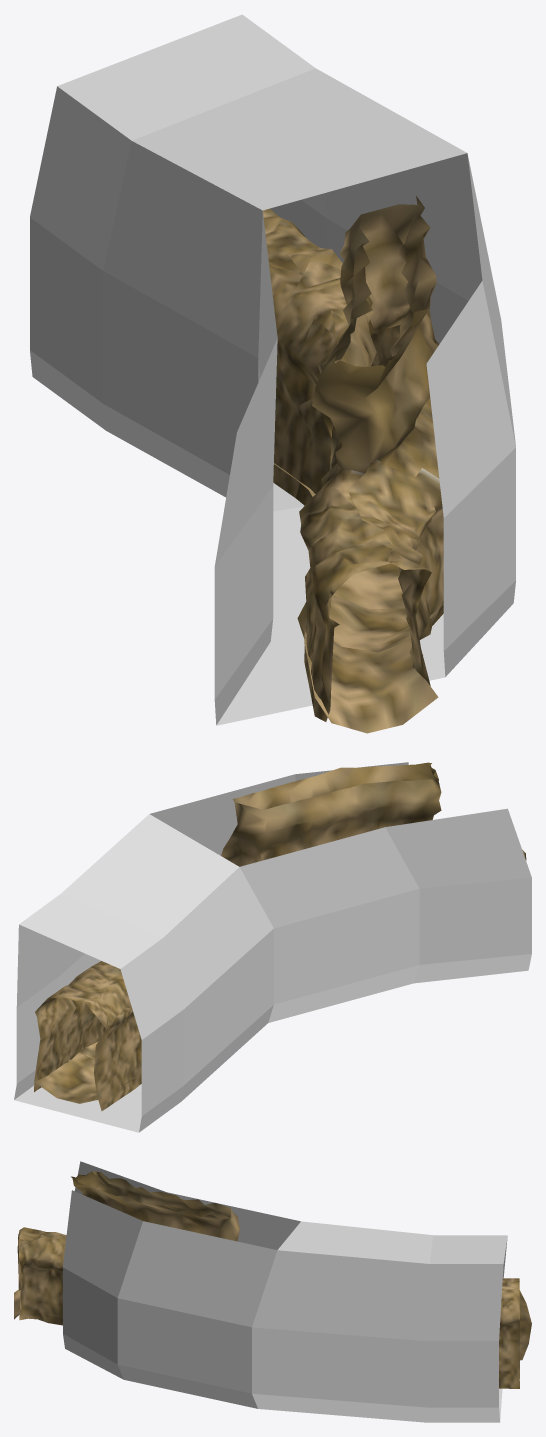
File: HUBCaveBeforeCenter.fbx
The picture shows the model from 3 angles, top to bottom: view 1: azimuth 30°, elevation 25°; view 2: azimuth 150°, elevation 25°; view 3: azimuth 270°, elevation 25°; orthographic projection. The views are drawn at different scales.
Visible parts, largest first — view 1: CaveOcc, Cavetunnel, CaveFloor; view 2: CaveOcc, Cavetunnel, CaveFloor; view 3: CaveOcc, Cavetunnel.
Boxes of the visible parts, x1=… form: CaveOcc: x1=30, y1=14, x2=515, y2=725; Cavetunnel: x1=263, y1=196, x2=443, y2=721; CaveFloor: x1=274, y1=463, x2=443, y2=733; CaveOcc: x1=14, y1=762, x2=531, y2=1132; Cavetunnel: x1=34, y1=762, x2=526, y2=1110; CaveFloor: x1=34, y1=1041, x2=141, y2=1103; CaveOcc: x1=63, y1=1161, x2=507, y2=1422; Cavetunnel: x1=17, y1=1171, x2=531, y2=1388.
Size of what is drawn, in the model's own units: 3942 by 2837 by 7482.
